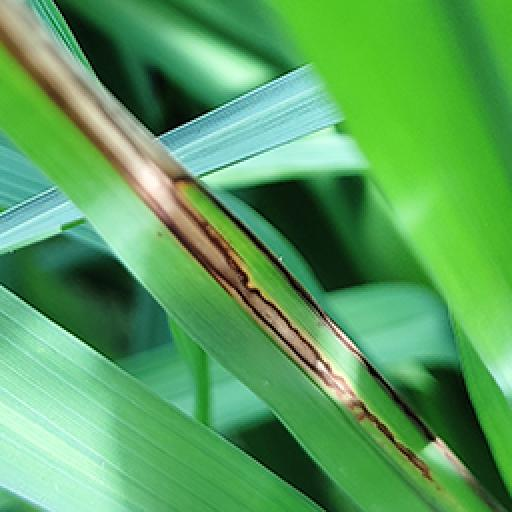Leaf Blast Disease: (2, 0, 496, 508)
